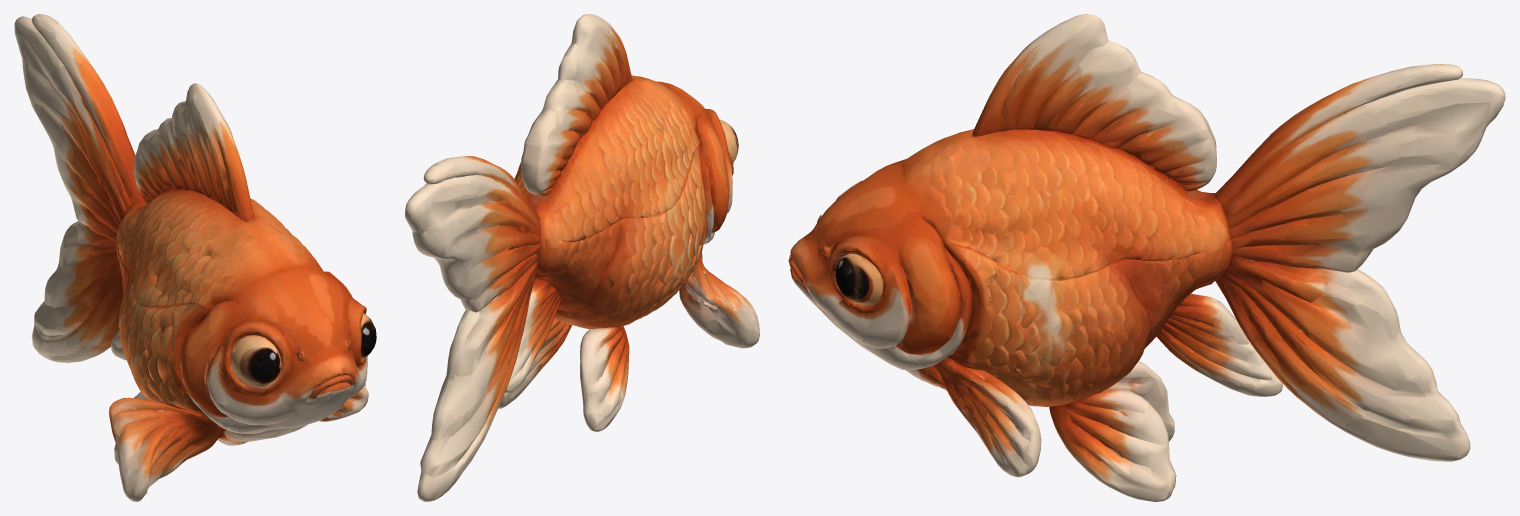
File: upm_muprjofv3v8.glb
3 views of the same model, side by side, from view 1: azimuth 30°, elevation 25°; view 2: azimuth 150°, elevation 25°; view 3: azimuth 270°, elevation 25° (orthographic). The views are drawn at different scales.
Size of the model in its own units: 0.9556 by 1.33 by 1.9.
Materials: 1 (1 with a texture image).
